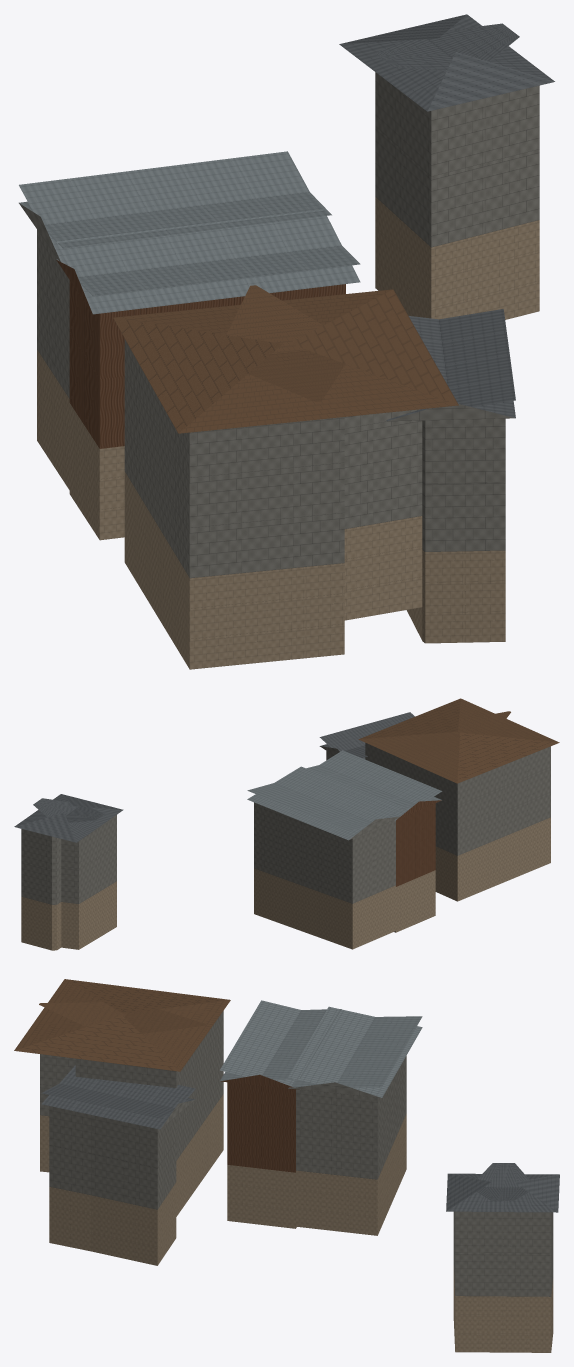
Rendered from bld_c32_47_243.gltf.
3 renders of one model, top to bottom at view 1: azimuth 30°, elevation 25°; view 2: azimuth 150°, elevation 25°; view 3: azimuth 270°, elevation 25°, orthographic. The views are drawn at different scales.
Parts seen in each view (by area): view 1: bld_c32_47_243; view 2: bld_c32_47_243; view 3: bld_c32_47_243.
Boxes of the visible parts, x1=… form: bld_c32_47_243: x1=19, y1=14, x2=554, y2=669; bld_c32_47_243: x1=14, y1=698, x2=559, y2=950; bld_c32_47_243: x1=14, y1=979, x2=559, y2=1352.
Size of the model in its own units: 40.35 by 16.4 by 44.96.
8 materials, 8 textured.
